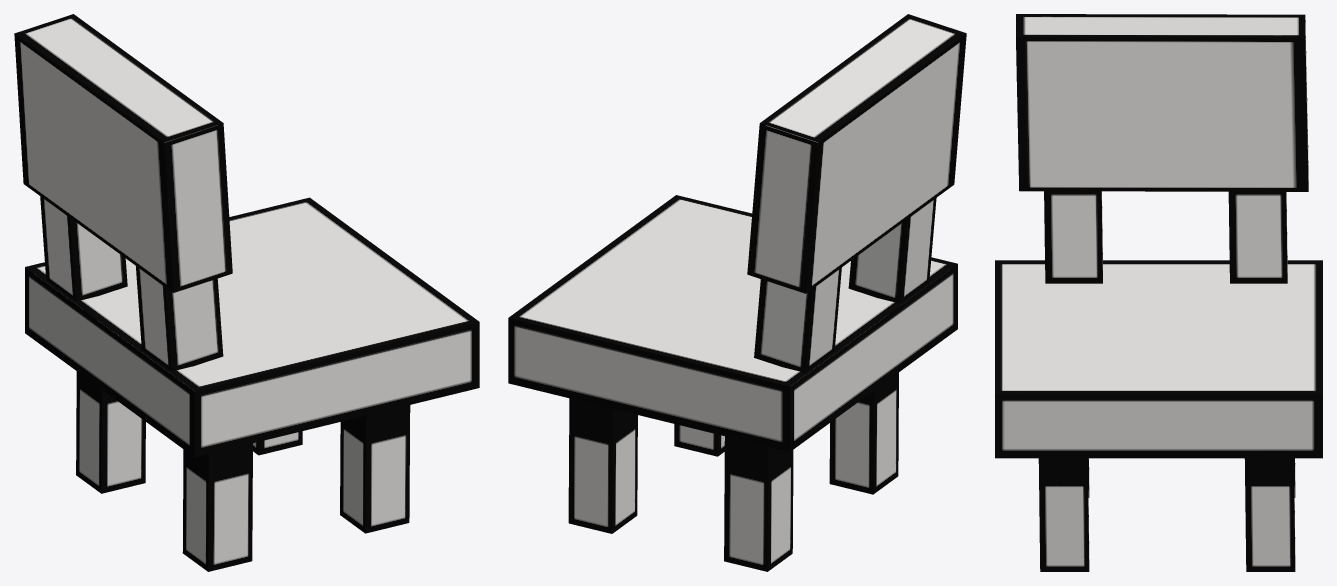
Rendered from Chair.fbx.
The picture shows the model from 3 angles, left to right: view 1: azimuth 30°, elevation 25°; view 2: azimuth 150°, elevation 25°; view 3: azimuth 270°, elevation 25°; orthographic projection. The views are drawn at different scales.
Visible parts, largest first — view 1: Chair; view 2: Chair; view 3: Chair.
Boxes of the visible parts, x1,y1,x2,y2 form: Chair: (14,14,479,571); Chair: (508,14,966,571); Chair: (995,14,1322,571).
Bounding box in the file's own units: 97.22 × 140 × 93.92.
